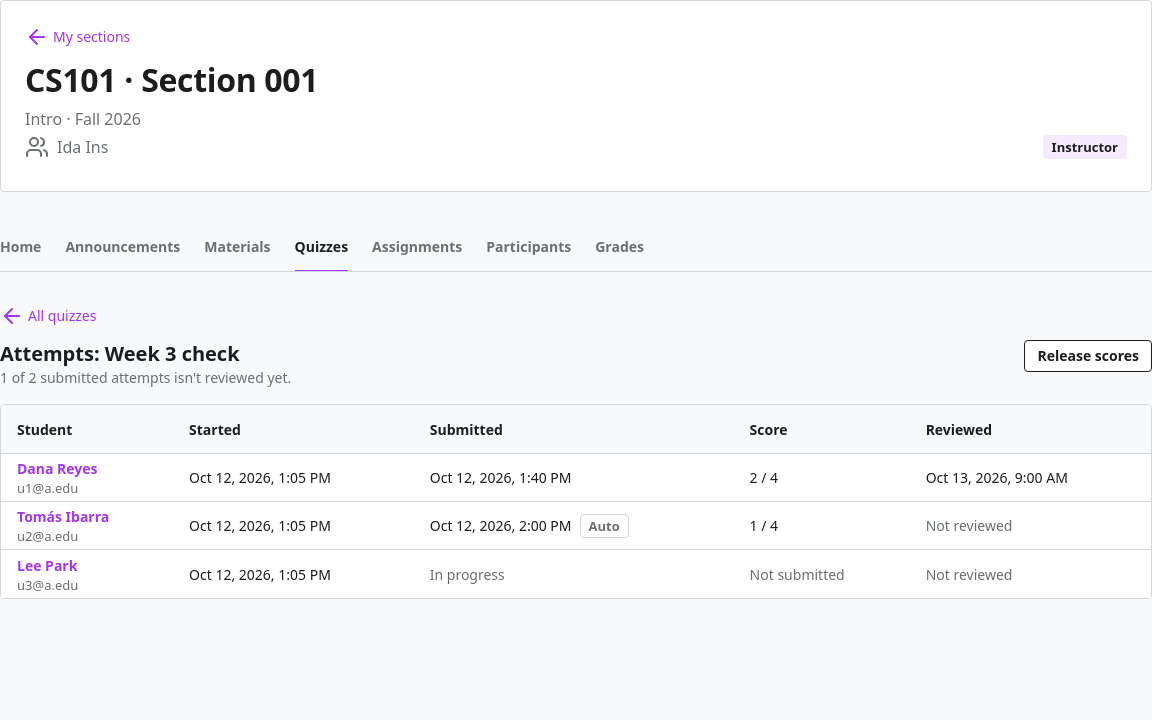
Release dialog notes the unreviewed count
This screenshot has width=1152, height=720.
Click the button with aria-label "Release scores for Week 3 check": (1088, 356) x1=1024 y1=340 x2=1151 y2=372
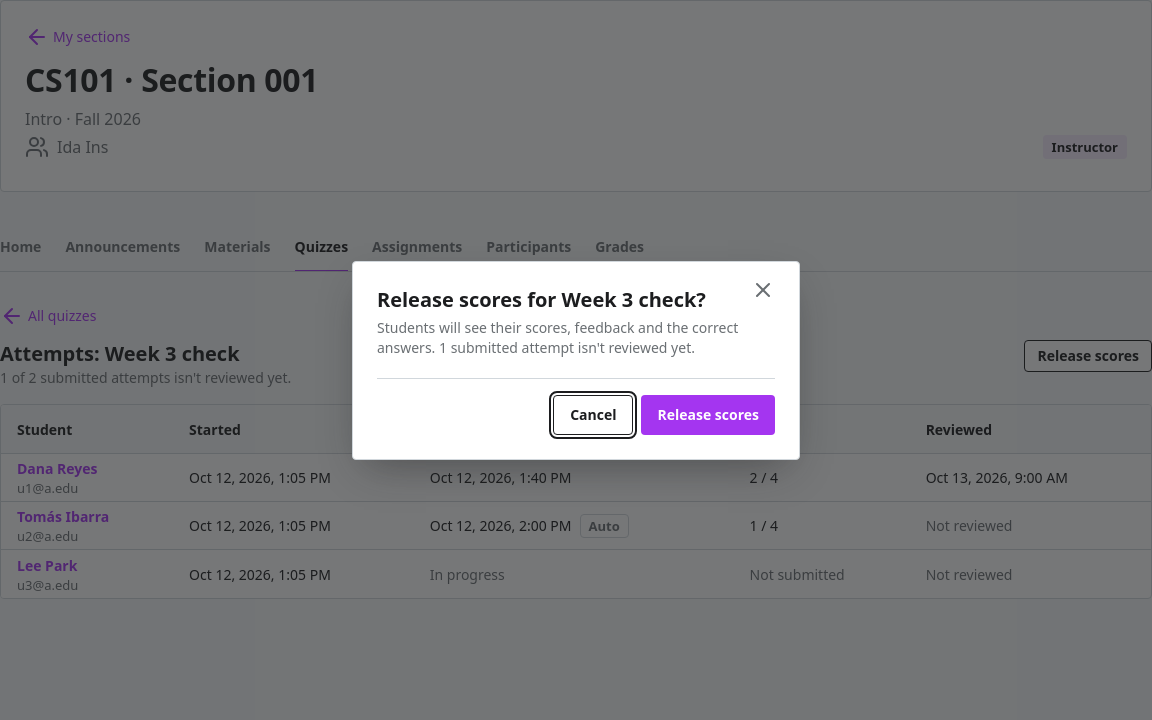
Result: the text "1 submitted attempt isn't reviewed yet." is shown at x1=377 y1=318 x2=738 y2=356
